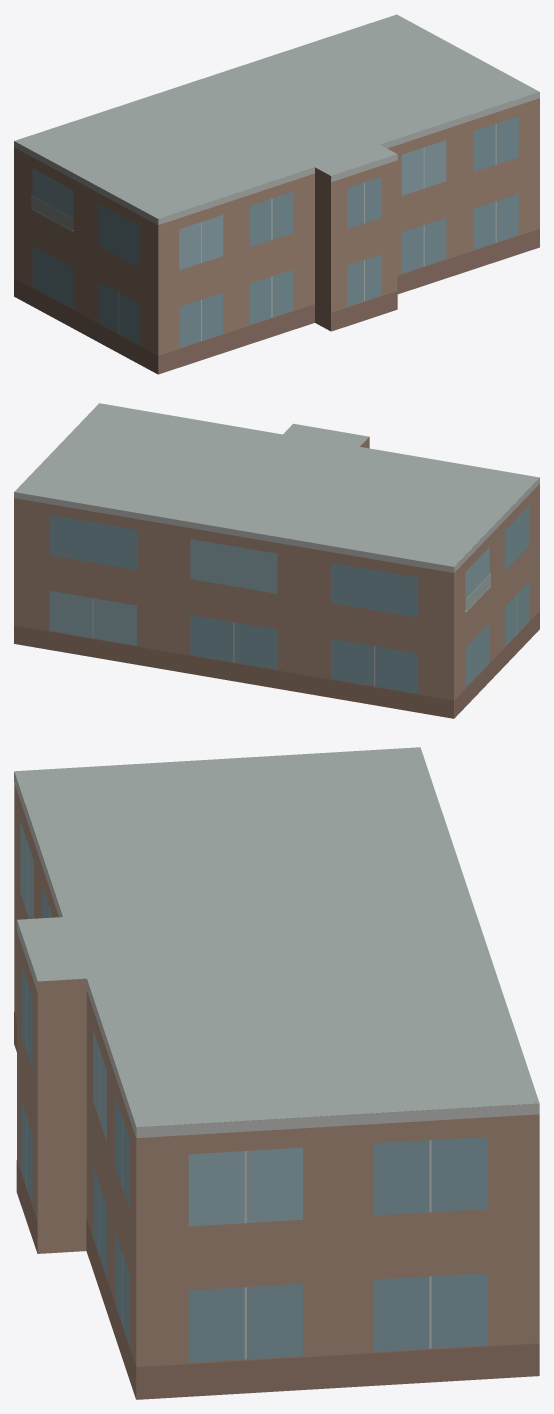
File: survey-upis-32820104.glb
The picture shows the model from 3 angles, top to bottom: view 1: azimuth 30°, elevation 25°; view 2: azimuth 150°, elevation 25°; view 3: azimuth 270°, elevation 25°; orthographic projection. The views are drawn at different scales.
Visible parts, largest first — view 1: survey-upis-32820104.tmp; view 2: survey-upis-32820104.tmp; view 3: survey-upis-32820104.tmp.
Part boxes in pixels (bbox=[...]): survey-upis-32820104.tmp: bbox=[14, 14, 539, 374]; survey-upis-32820104.tmp: bbox=[14, 403, 539, 718]; survey-upis-32820104.tmp: bbox=[14, 747, 539, 1399].
Bounding box in the file's own units: 18.26 × 6.1 × 10.67.
